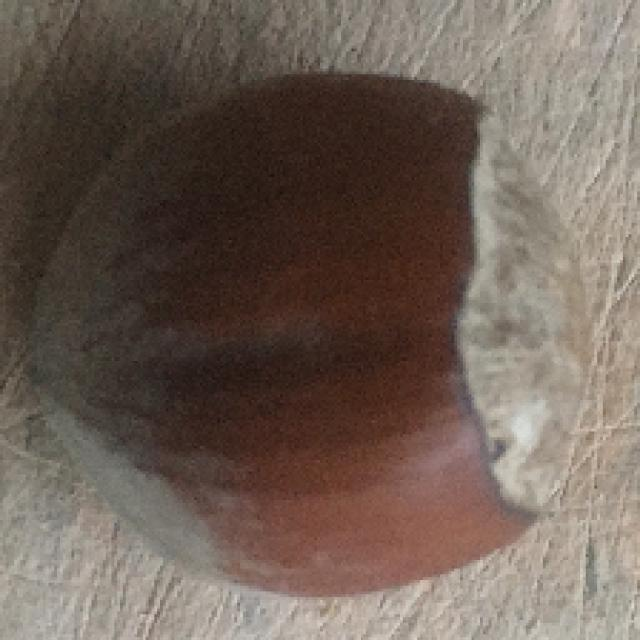qualityHazelnut: (22, 69, 583, 587)
